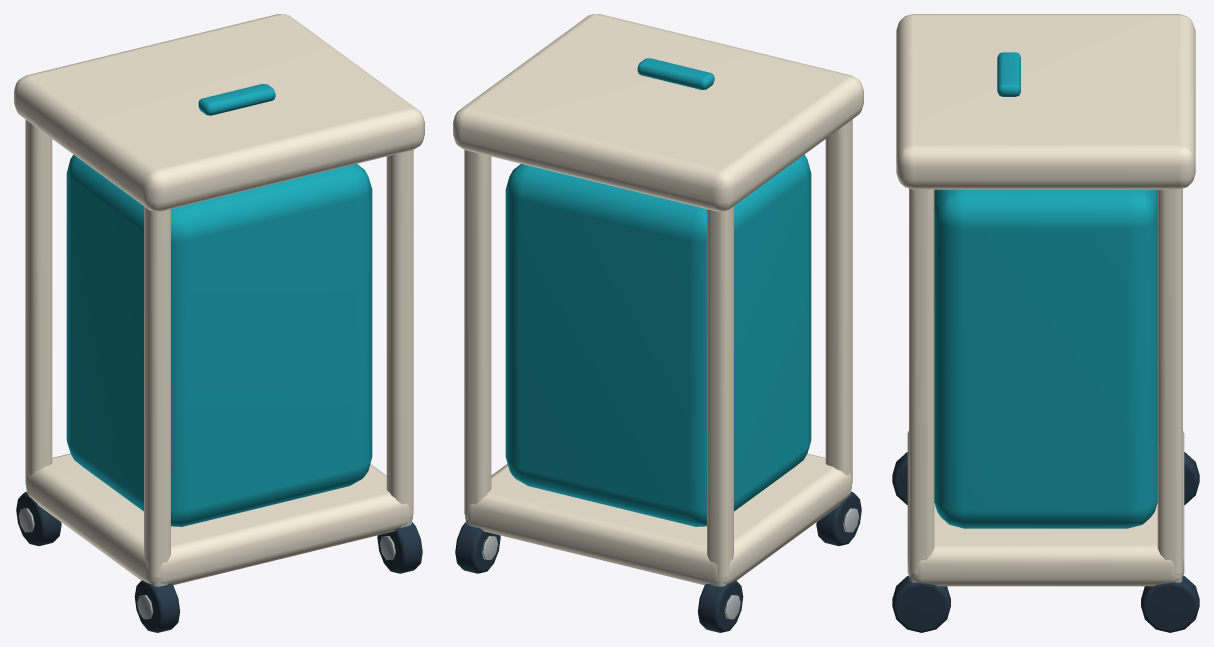
The model's file is Utility_Laundry_Hamper.glb.
The picture shows the model from 3 angles, left to right: view 1: azimuth 30°, elevation 25°; view 2: azimuth 150°, elevation 25°; view 3: azimuth 270°, elevation 25°; orthographic projection. The views are drawn at different scales.
Visible parts, largest first — view 1: Utility_Laundry_Hamper__Visual, Hamper_Lid_Hinge__Visual, Caster_Pivot.008__Visual, Caster_Pivot.010__Visual, Caster_Pivot.009__Visual; view 2: Utility_Laundry_Hamper__Visual, Hamper_Lid_Hinge__Visual, Caster_Pivot.009__Visual, Caster_Pivot.011__Visual, Caster_Pivot.008__Visual; view 3: Utility_Laundry_Hamper__Visual, Hamper_Lid_Hinge__Visual, Caster_Pivot.010__Visual, Caster_Pivot.011__Visual, Caster_Pivot.008__Visual, Caster_Pivot.009__Visual.
Boxes of the visible parts, bbox=[...] form: Utility_Laundry_Hamper__Visual: bbox=[25, 119, 413, 586]; Hamper_Lid_Hinge__Visual: bbox=[14, 14, 424, 211]; Caster_Pivot.008__Visual: bbox=[134, 580, 180, 632]; Caster_Pivot.010__Visual: bbox=[377, 522, 422, 573]; Caster_Pivot.009__Visual: bbox=[16, 491, 61, 545]; Utility_Laundry_Hamper__Visual: bbox=[464, 119, 852, 586]; Hamper_Lid_Hinge__Visual: bbox=[453, 14, 863, 211]; Caster_Pivot.009__Visual: bbox=[697, 580, 743, 632]; Caster_Pivot.011__Visual: bbox=[455, 522, 500, 573]; Caster_Pivot.008__Visual: bbox=[816, 491, 861, 545]; Utility_Laundry_Hamper__Visual: bbox=[907, 188, 1184, 586]; Hamper_Lid_Hinge__Visual: bbox=[896, 14, 1195, 189]; Caster_Pivot.010__Visual: bbox=[892, 576, 950, 632]; Caster_Pivot.011__Visual: bbox=[1141, 576, 1199, 632]; Caster_Pivot.008__Visual: bbox=[892, 452, 907, 505]; Caster_Pivot.009__Visual: bbox=[1184, 452, 1199, 505].
Size of the model in its own units: 0.6 by 0.975 by 0.544.
Materials: 1 (1 with a texture image).
